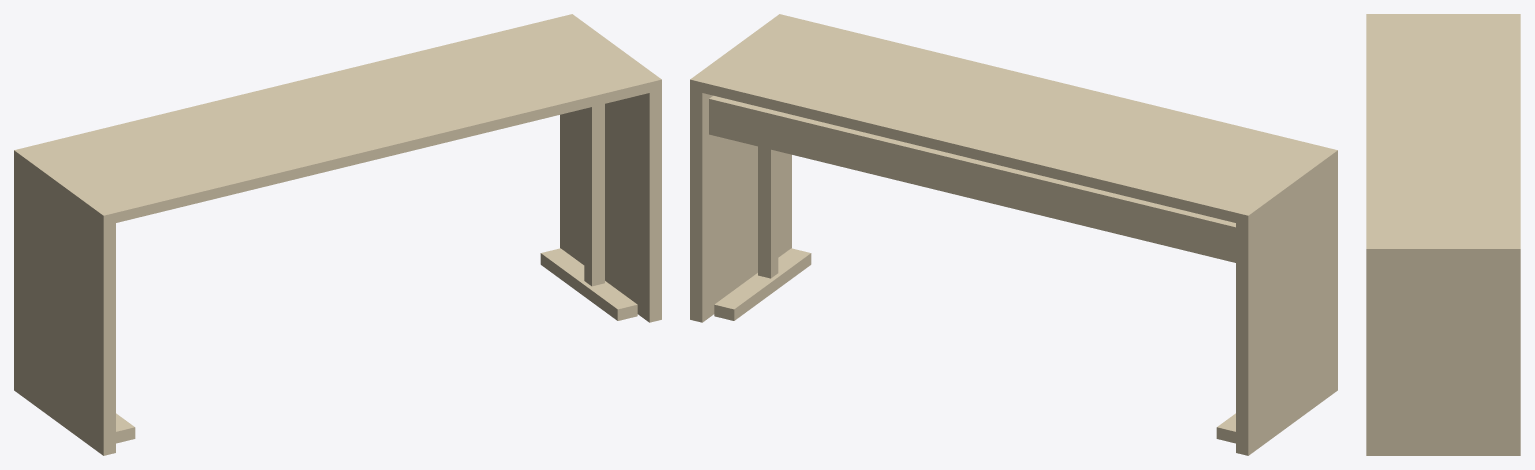
3 views of the same model, side by side, from view 1: azimuth 30°, elevation 25°; view 2: azimuth 150°, elevation 25°; view 3: azimuth 270°, elevation 25° (orthographic). The views are drawn at different scales.
Visible parts, largest first — view 1: Top, EndPanels, UprightRight, TFeet; view 2: Top, EndPanels, BackRail, TFeet, UprightRight; view 3: Top, EndPanels.
Part boxes in pixels (x1,y1,x2,y2): Top: (14, 14, 661, 225); EndPanels: (14, 90, 661, 455); UprightRight: (584, 104, 604, 286); TFeet: (116, 248, 637, 443); Top: (690, 14, 1337, 225); EndPanels: (690, 90, 1337, 455); BackRail: (709, 95, 1235, 262); TFeet: (714, 248, 1235, 443); UprightRight: (758, 146, 778, 278); Top: (1366, 14, 1520, 257); EndPanels: (1366, 258, 1520, 455).
Size of the model in its own units: 1.8 by 0.74 by 0.5.
